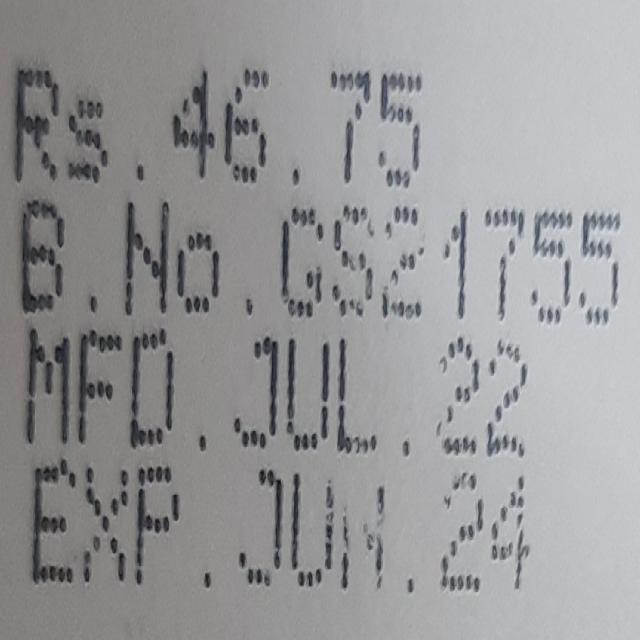sentence: (20, 191, 620, 334), (31, 450, 530, 603), (25, 316, 528, 462), (15, 61, 421, 191)
